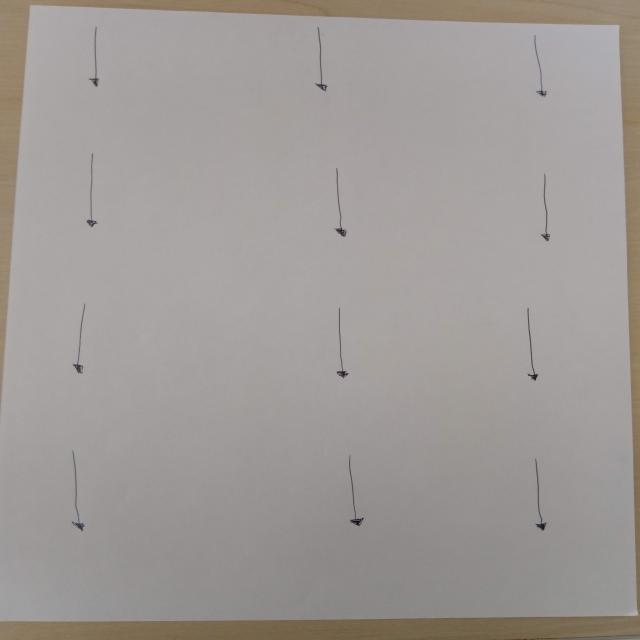arrow_line_down: (317, 156, 368, 240), (332, 451, 379, 532), (515, 456, 559, 540), (72, 152, 117, 232), (514, 36, 559, 104), (60, 449, 94, 537), (322, 307, 360, 380), (514, 306, 550, 382), (529, 168, 562, 249), (305, 23, 336, 96), (65, 306, 96, 377), (80, 25, 108, 85)
